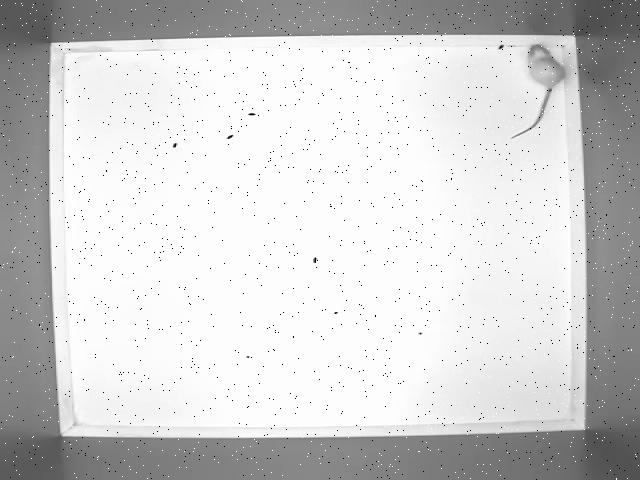Tikus: (510, 40, 580, 140)
